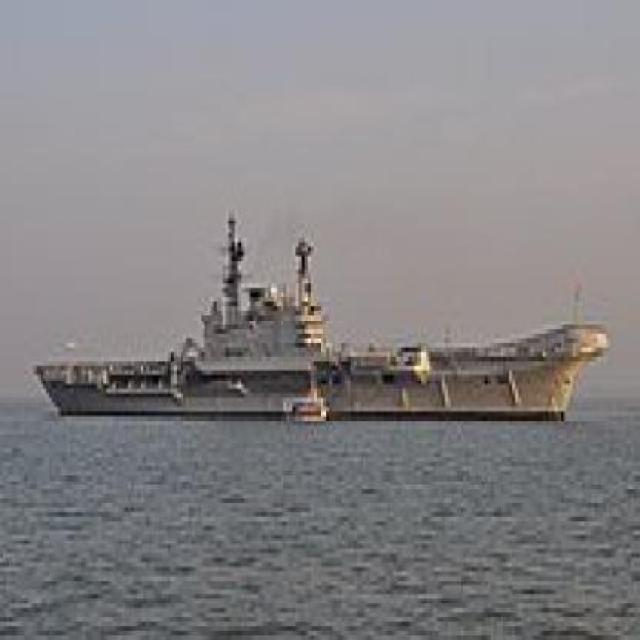warship2: (22, 197, 614, 431)
